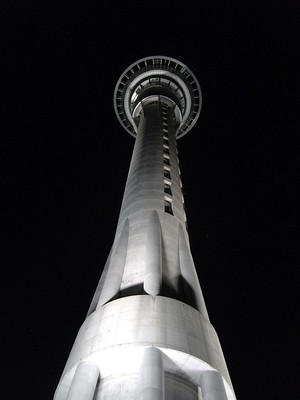medium: (49, 50, 243, 400)
